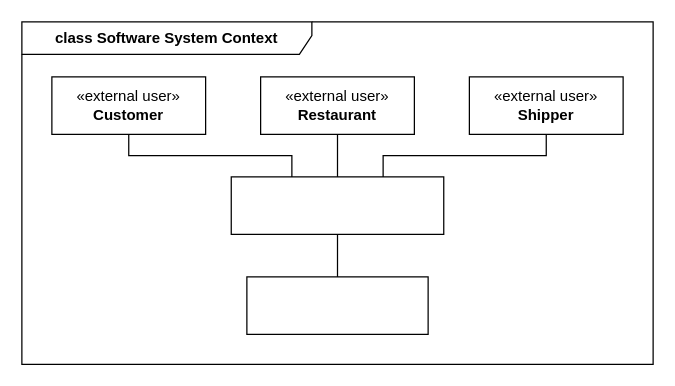
Some shapes in this 675 by 386 pixel diagram are drawn without their labels. Each missing label, with the centre of its shape:
"«external system» Payment Gateway" belongs at pixel 337 305.
"«software system» Food Delivery System" belongs at pixel 337 205.
